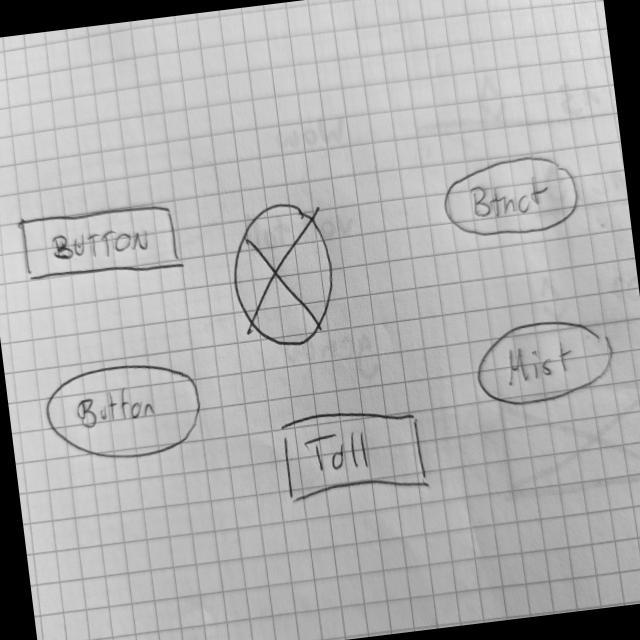button: (43, 354, 211, 471), (274, 401, 435, 509), (16, 196, 189, 290), (471, 312, 619, 411), (437, 150, 583, 246)
image: (221, 196, 345, 354)
